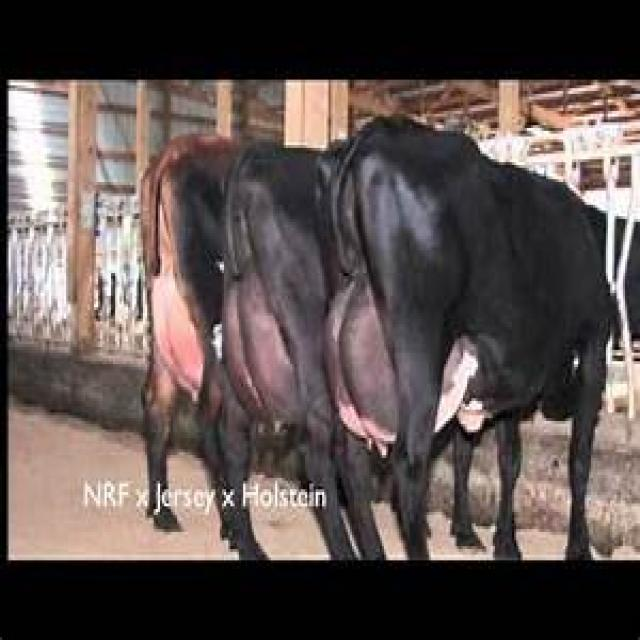cow: (314, 111, 632, 560), (218, 141, 321, 561), (140, 131, 236, 539)
